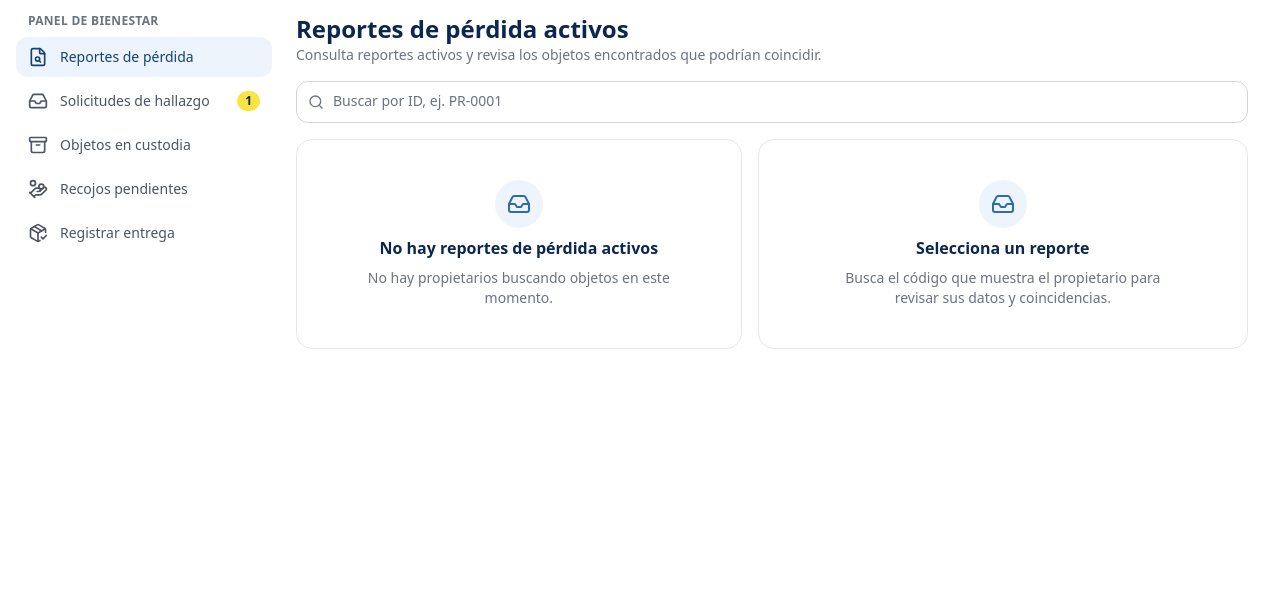
Scenario: Panel de Bienestar › permite elegir un objeto de la oficina y llenar una entrega sin reporte
Click the button "Objetos en custodia" at coordinates (144, 145), box [16,125,272,165]
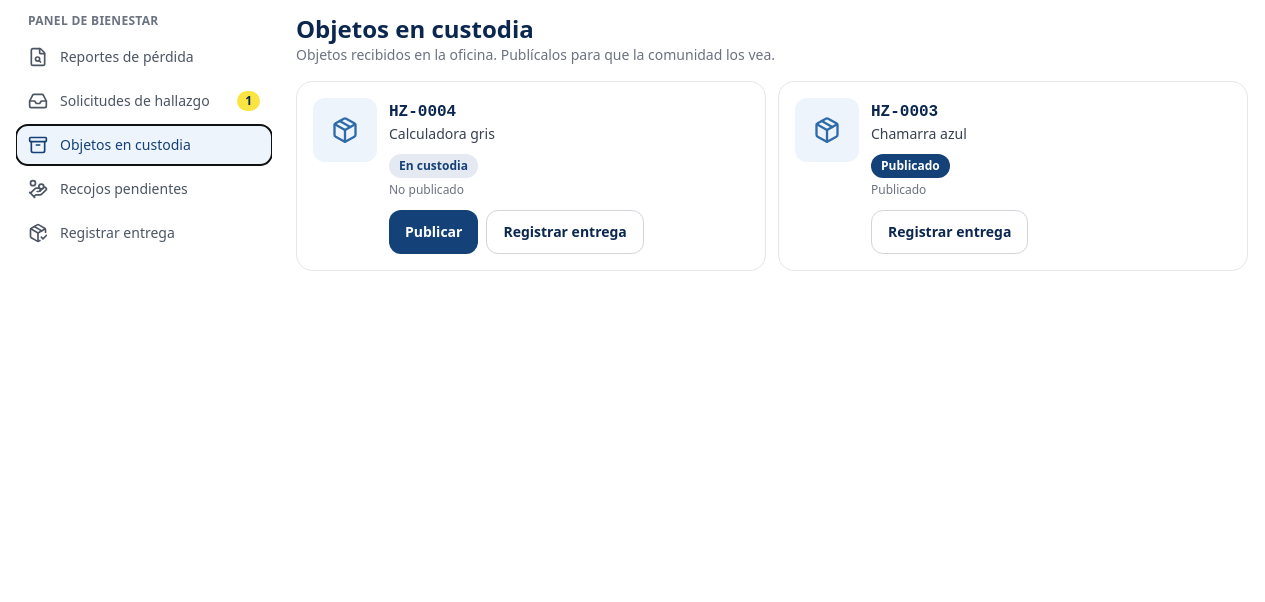
Click the button "Registrar entrega" below "Chamarra azul" at coordinates (950, 232), box [871,210,1028,254]
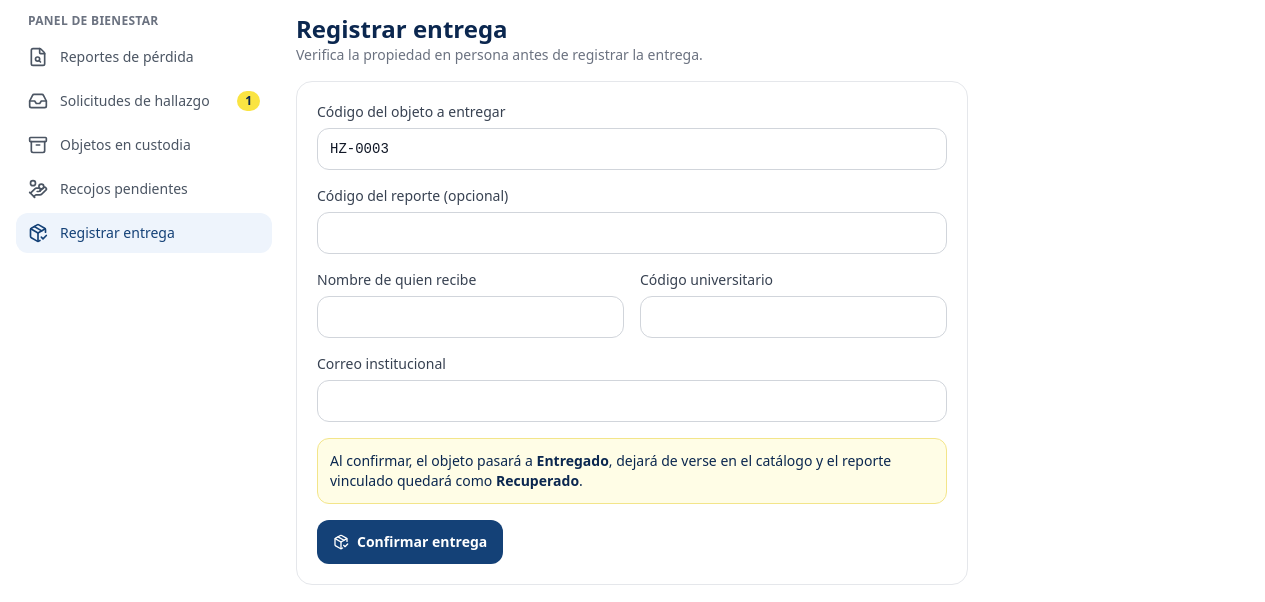
Expected: the field labelled "Nombre de quien recibe" is empty, [317,296,624,338]
Now the field labelled "Código del objeto a entregar" holds "HZ-0003", box [317,128,947,170]
Now the field labelled "Código del reporte (opcional)" is empty, box [317,212,947,254]
